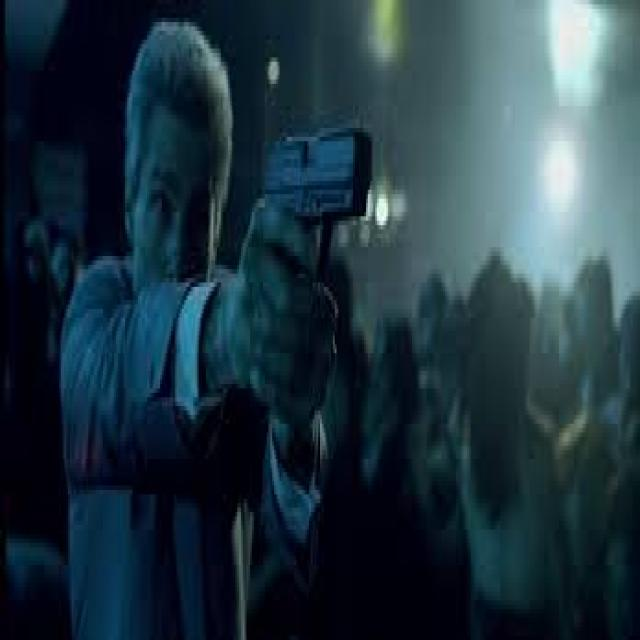weapons: (242, 118, 378, 411)
